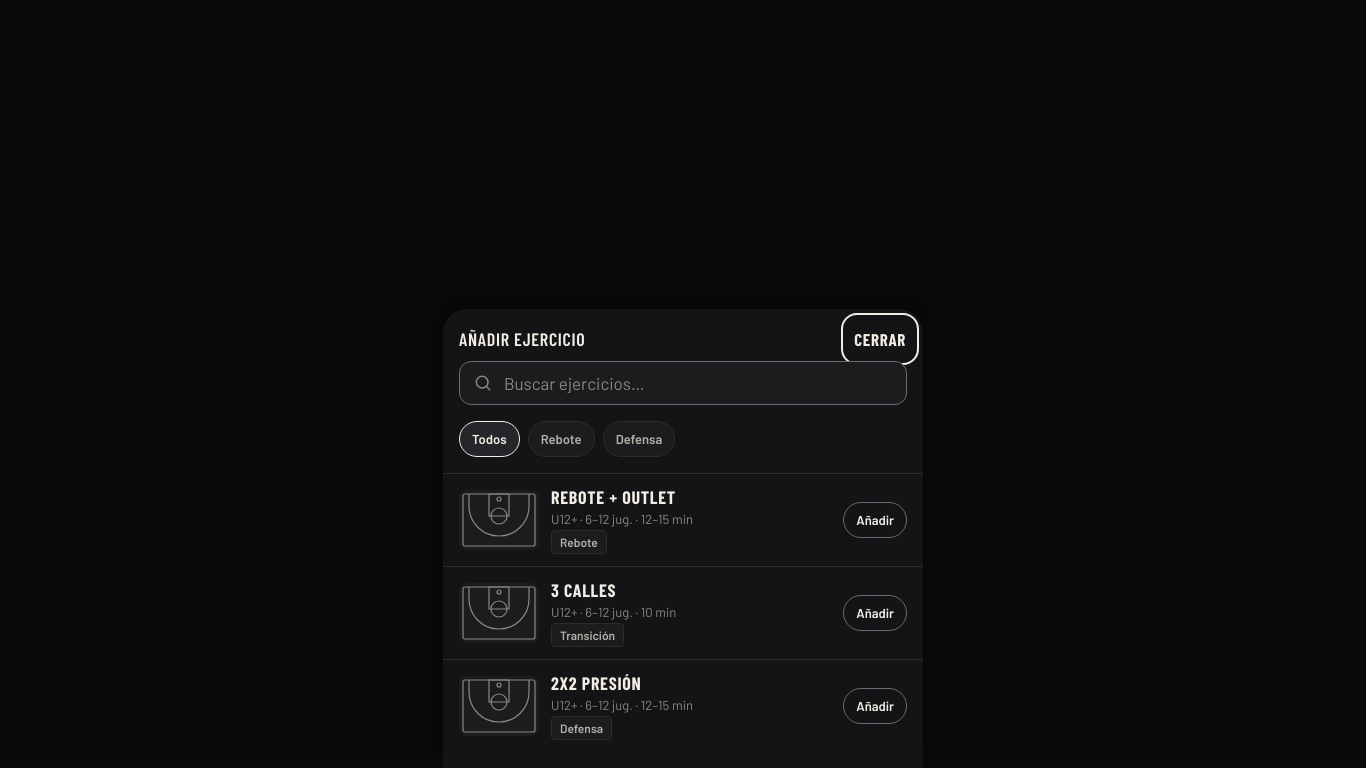
DrillPicker · añadir › lo añadido sigue marcado al cambiar la búsqueda y volver
expect the text "Rebote + outlet" is shown: met, box [551,486,676,508]
Click the button with aria-label "Añadir Rebote + outlet".
click(875, 520)  # box [843,498,907,542]
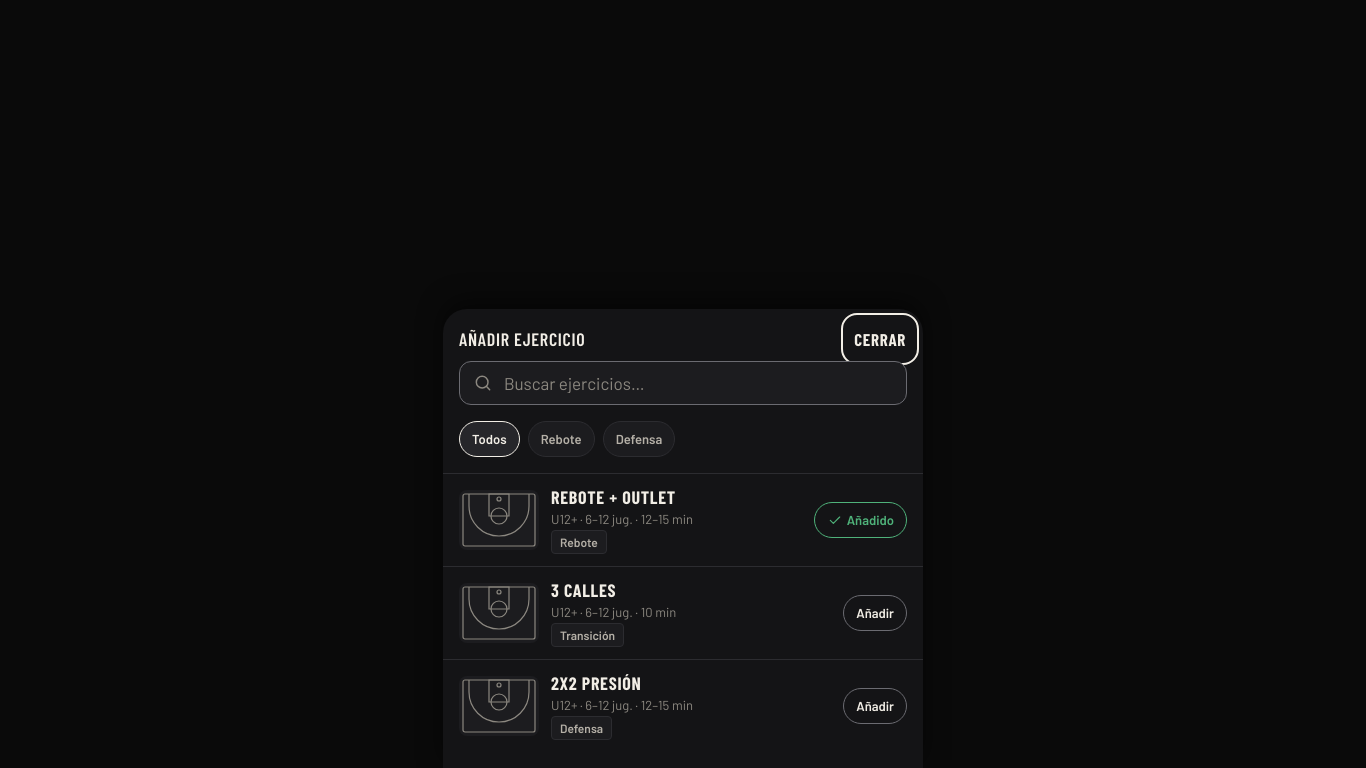
Type "calles" into the search field labelled "Buscar ejercicios".
click(683, 383); type("calles")  # box [459,361,907,405]
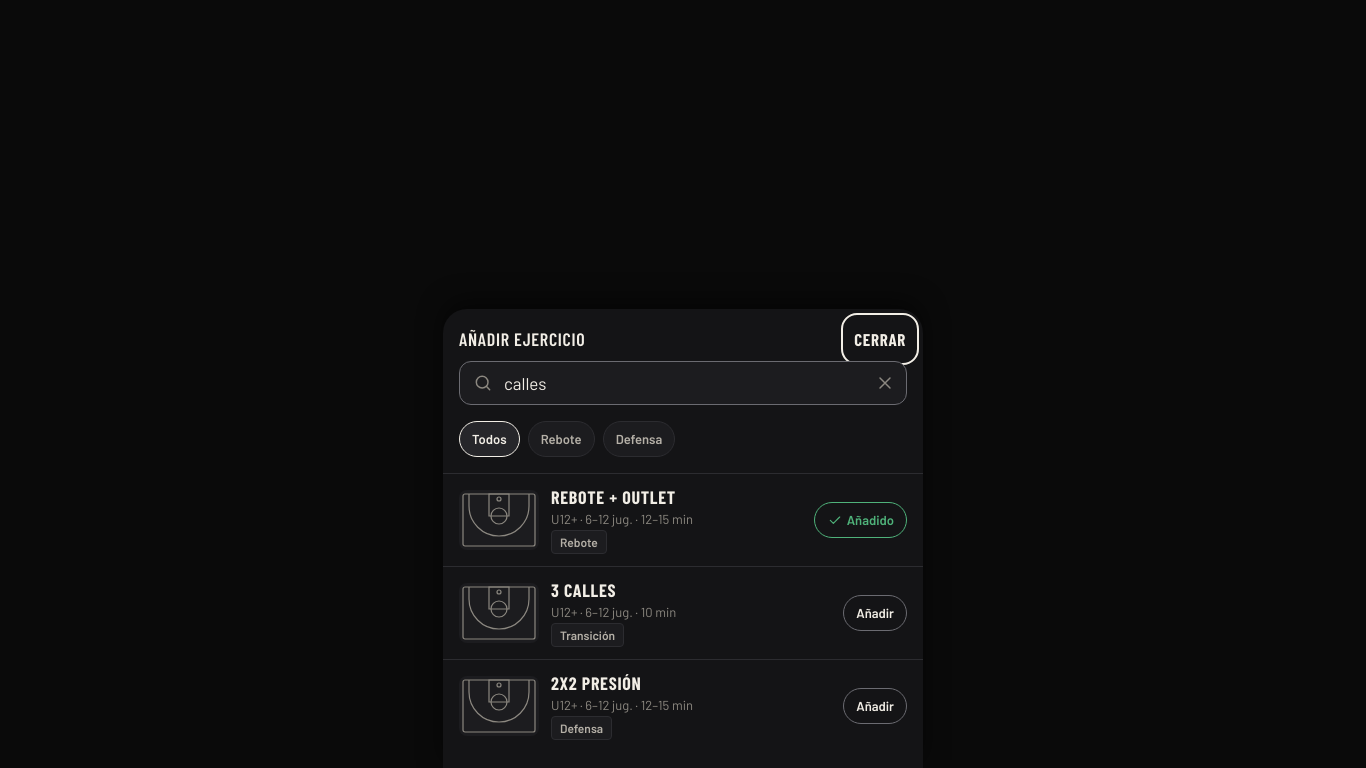
Press Enter in the search field named "Buscar ejercicios", box [459,361,907,405]
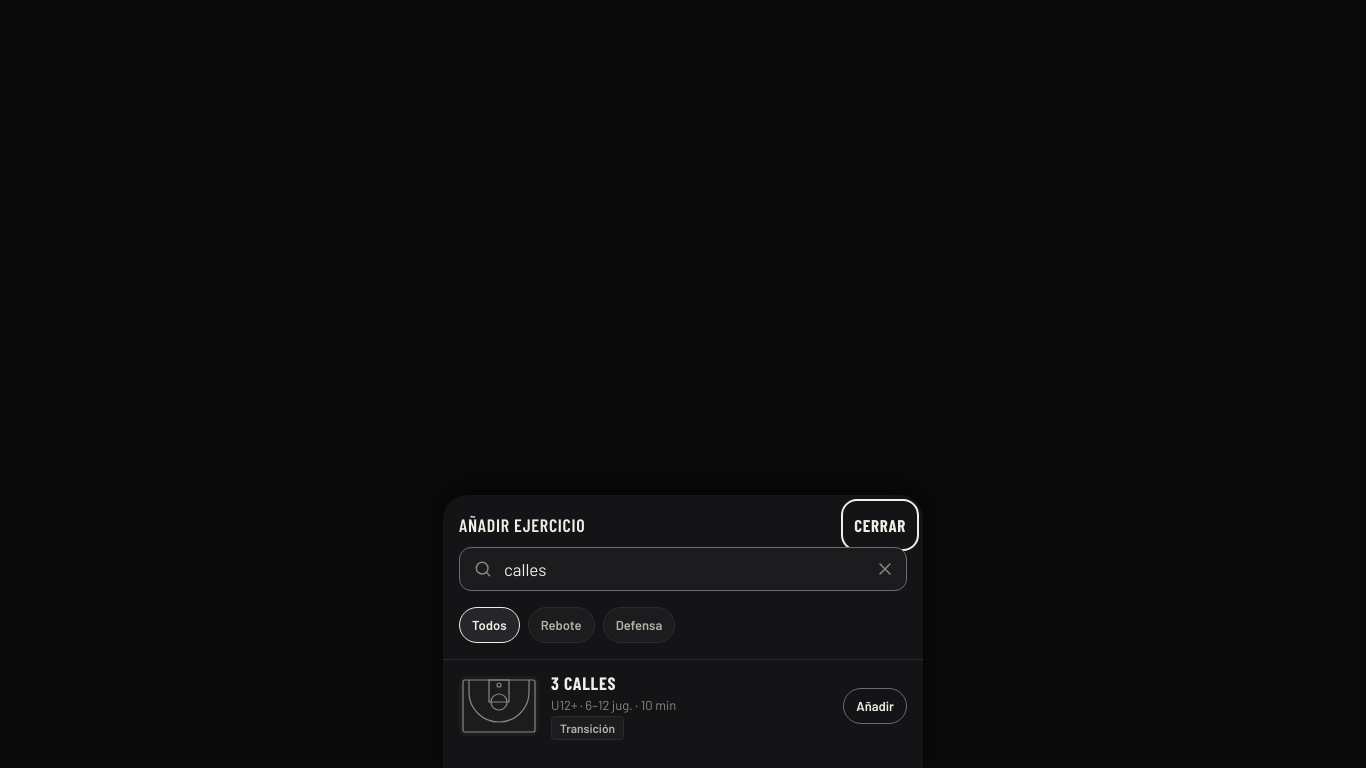
expect the number of links is 1: met, box [459,672,676,740]
Clear the search field named "Buscar ejercicios" at (683,569), box [459,547,907,591]
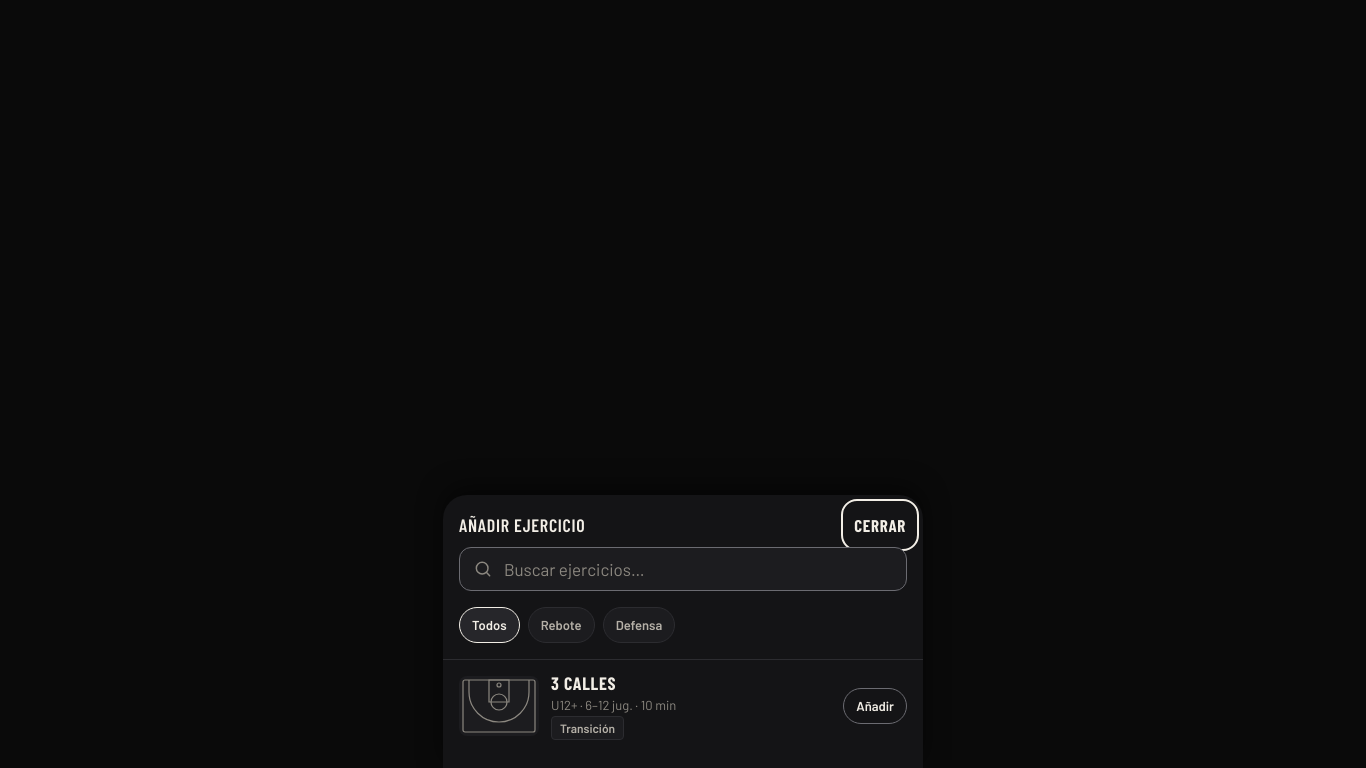
Press Enter in the search field labelled "Buscar ejercicios", box [459,547,907,591]
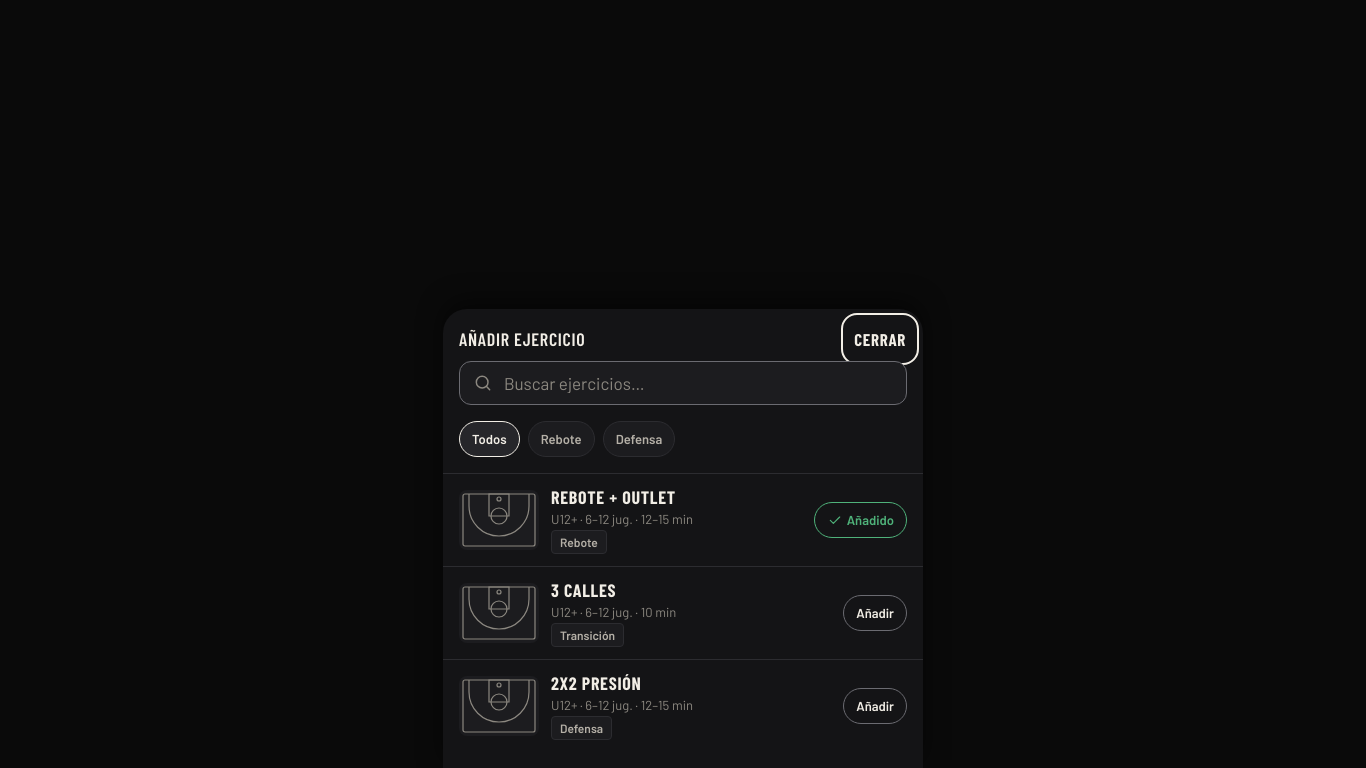
expect the number of links is 3: met, box [459,486,693,554]; [459,579,676,647]; [459,672,693,740]
expect the button with aria-label "Añadido. Volver a añadir Rebote + outlet" is shown: met, box [814,498,907,542]
